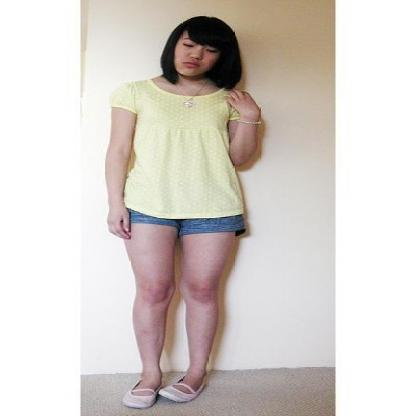shirt: (105, 80, 251, 224)
shoe: (124, 378, 207, 407)
shorts: (119, 208, 248, 241)
